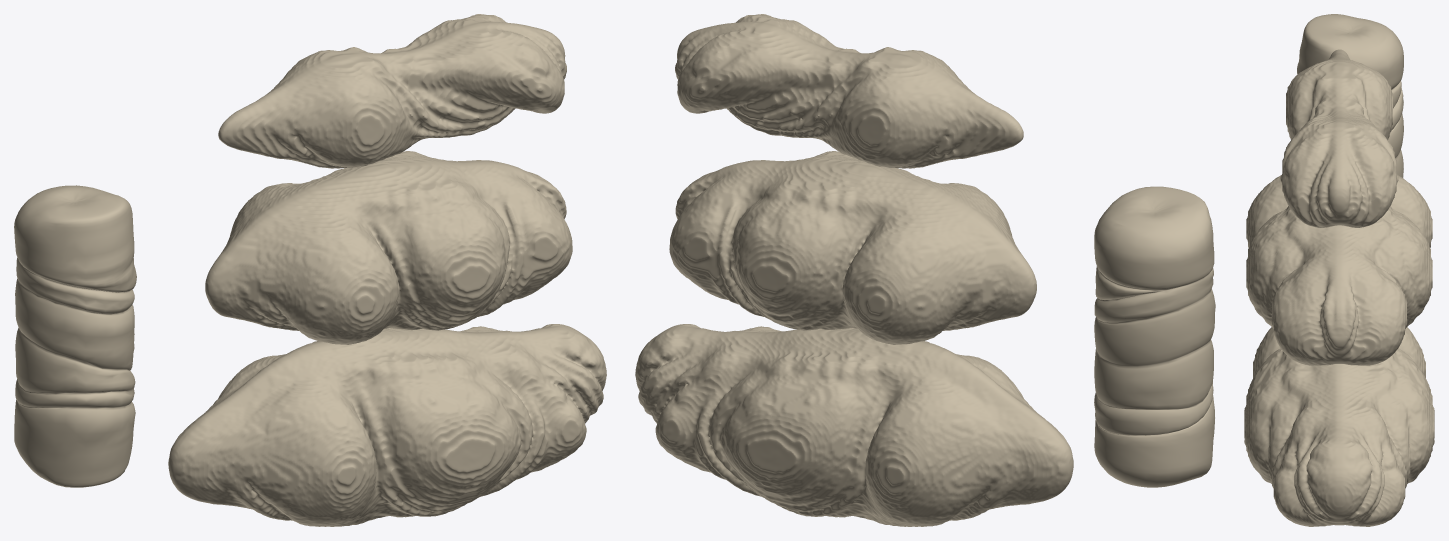
Rendered from bodies_mirrored.glb.
3 views of the same model, side by side, from view 1: azimuth 30°, elevation 25°; view 2: azimuth 150°, elevation 25°; view 3: azimuth 270°, elevation 25° (orthographic). The views are drawn at different scales.
Parts seen in each view (by area): view 1: body_2, body_1, segment, body_0; view 2: body_2, body_1, segment, body_0; view 3: body_2, body_1, body_0, segment.
Boxes of the visible parts, box(x1,y1,x2,y2) form: body_2: box(168, 324, 606, 526); body_1: box(205, 151, 572, 344); segment: box(14, 185, 136, 487); body_0: box(218, 14, 566, 168); body_2: box(635, 324, 1073, 526); body_1: box(669, 151, 1036, 344); segment: box(1094, 186, 1215, 487); body_0: box(675, 14, 1023, 168); body_2: box(1244, 327, 1434, 526); body_1: box(1246, 174, 1432, 365); body_0: box(1280, 49, 1398, 227); segment: box(1297, 14, 1403, 177).
Bounding box in the file's own units: 0.9963 × 0.7677 × 0.3309.
